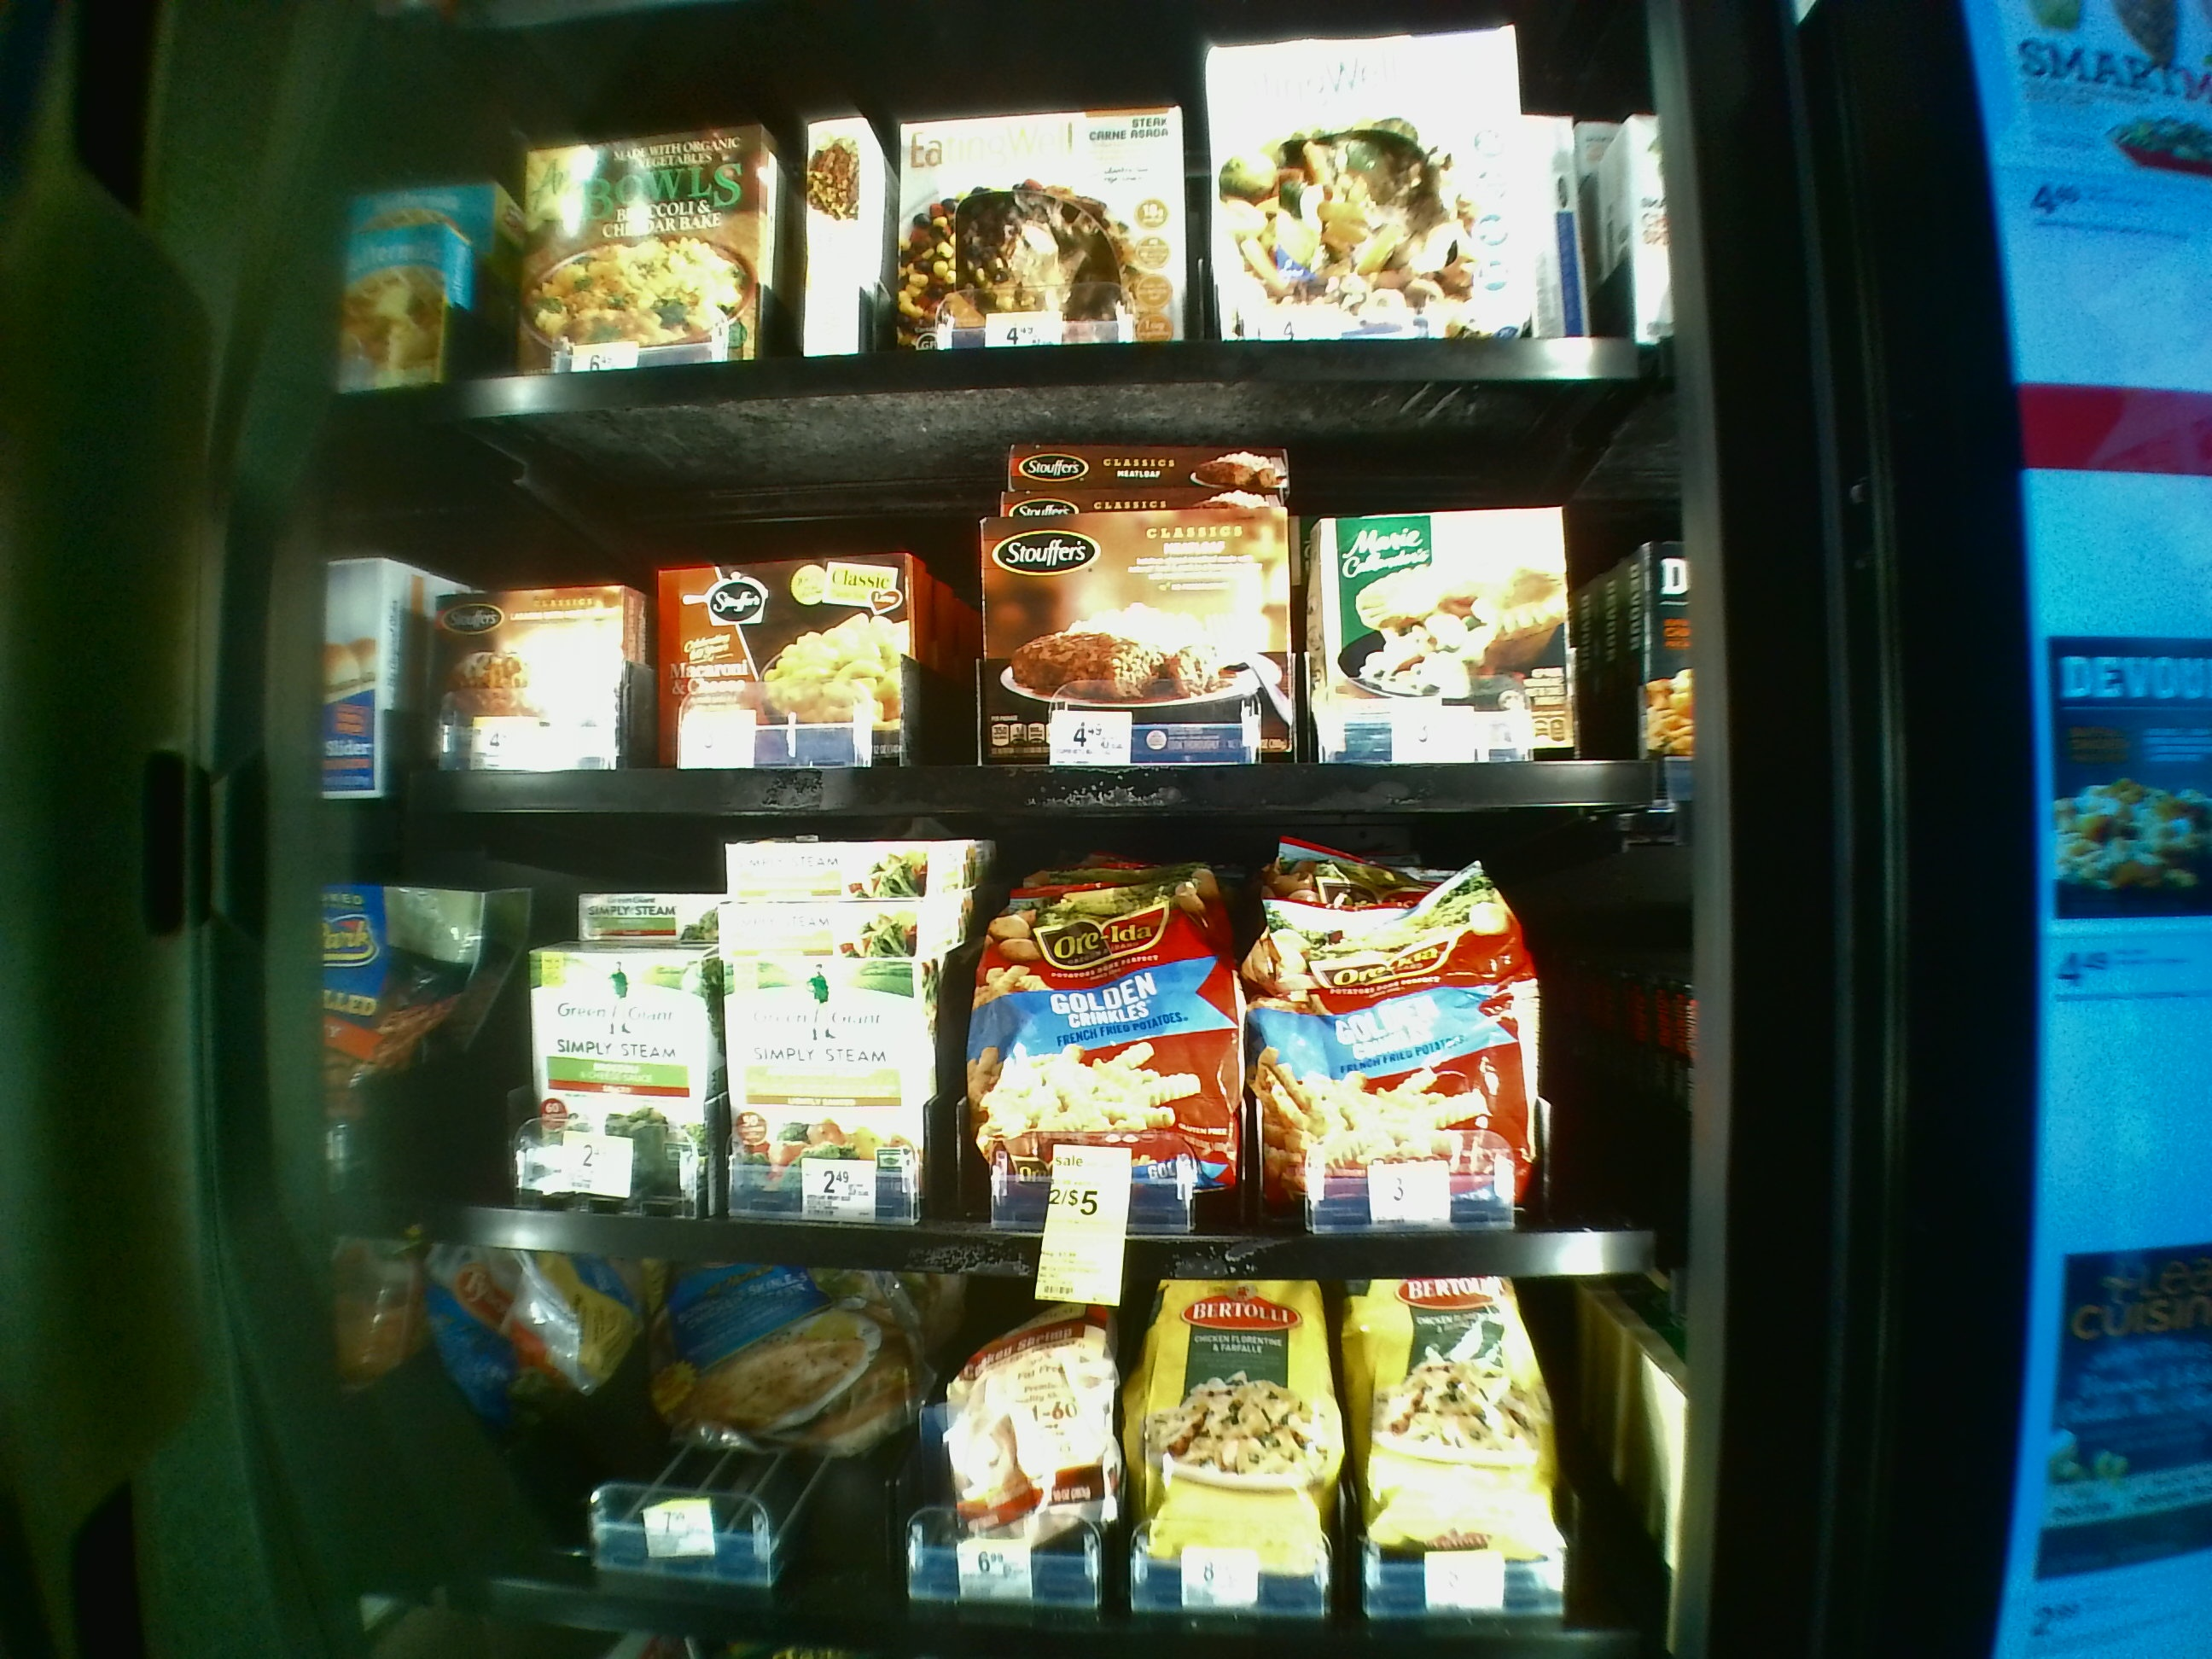shelf: (380, 836, 1667, 1270), (409, 392, 1662, 819)
